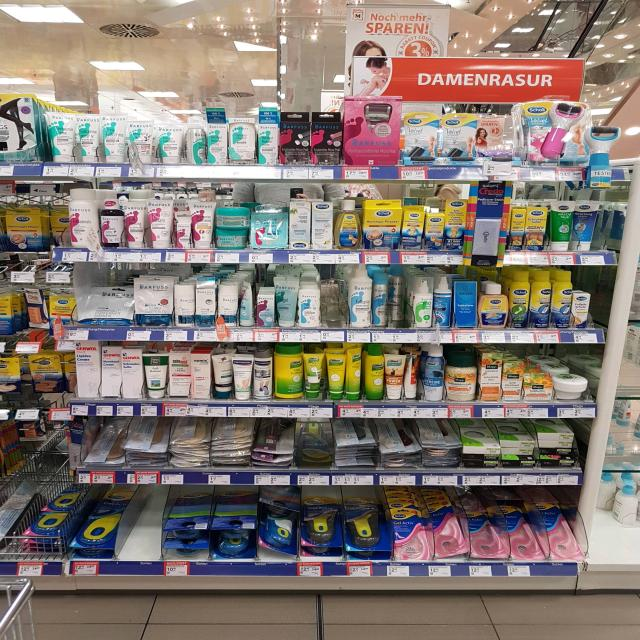void: (132, 486, 160, 574), (322, 264, 347, 341)
